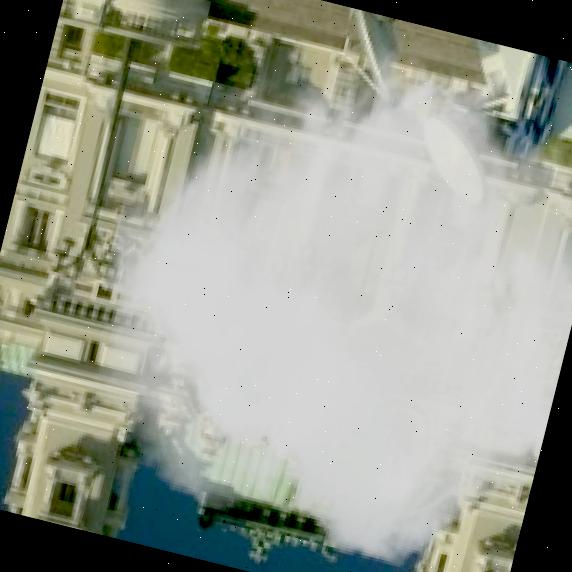smoke: (53, 0, 572, 572)
